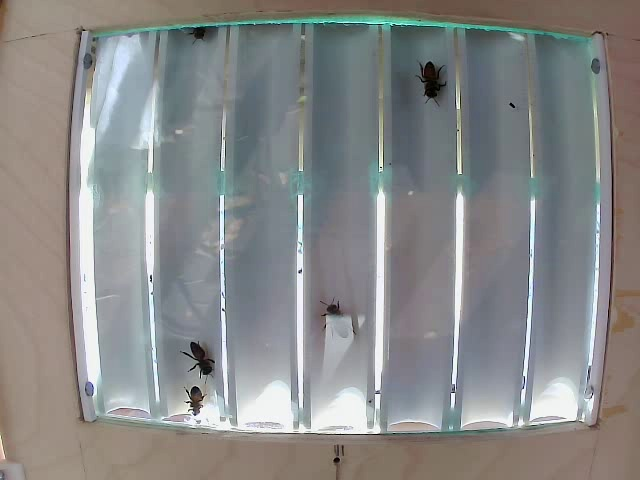bee: (182, 330, 234, 385), (403, 74, 452, 127), (168, 390, 201, 423)
